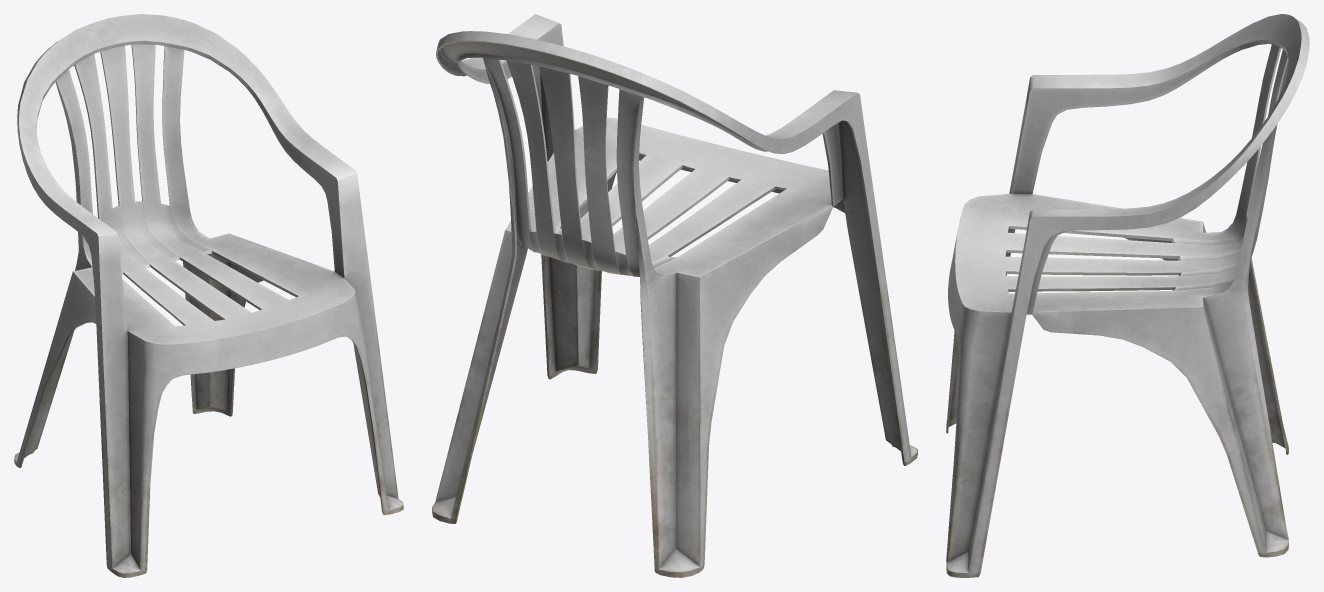
The model's file is plastic_monobloc_chair.fbx.
3 renders of one model, left to right at view 1: azimuth 30°, elevation 25°; view 2: azimuth 150°, elevation 25°; view 3: azimuth 270°, elevation 25°, orthographic. The views are drawn at different scales.
Visible parts, largest first — view 1: plastic_monobloc_chair; view 2: plastic_monobloc_chair; view 3: plastic_monobloc_chair.
Boxes of the visible parts, x1=… form: plastic_monobloc_chair: x1=14, y1=14, x2=403, y2=577; plastic_monobloc_chair: x1=432, y1=14, x2=917, y2=577; plastic_monobloc_chair: x1=946, y1=14, x2=1309, y2=577.
Bounding box in the file's own units: 64.19 × 87.98 × 62.76.
